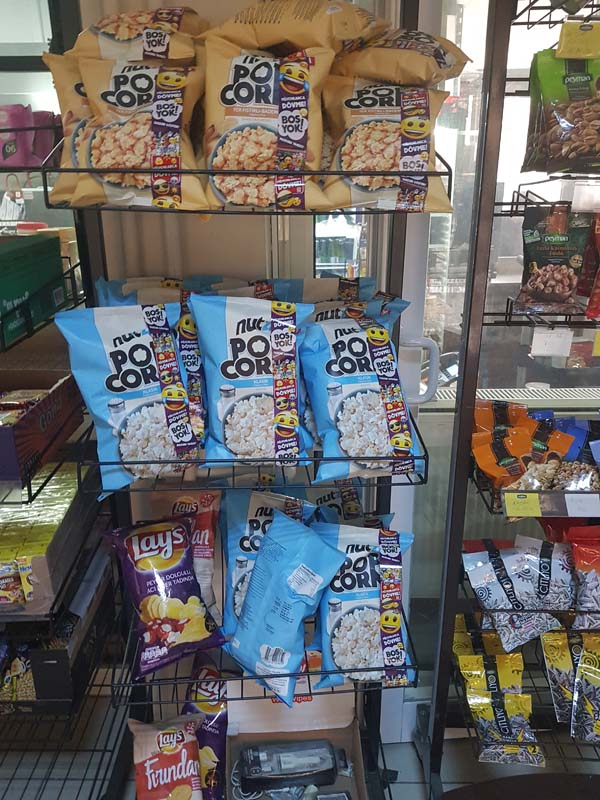antepfistigi: (529, 46, 600, 181)
laysfirindan: (462, 544, 570, 658), (123, 708, 204, 800)
layspeynirsoslu: (114, 511, 224, 666)
popcorn: (60, 302, 208, 490), (187, 284, 315, 482), (296, 298, 424, 482), (241, 510, 347, 702), (312, 513, 426, 689)
usbcarcharger: (233, 737, 346, 789)
